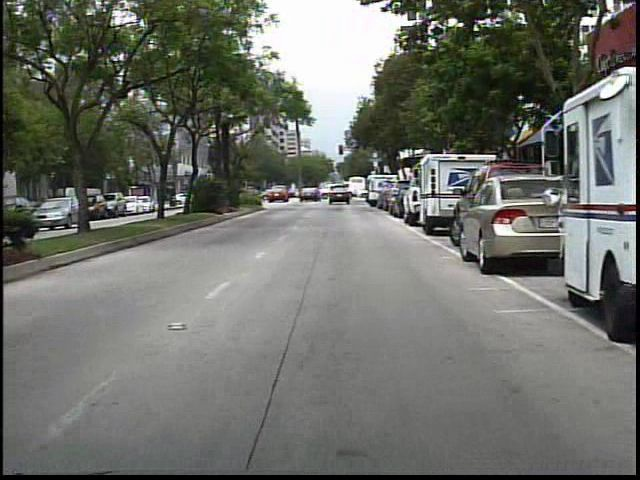person: (330, 183, 344, 203)
